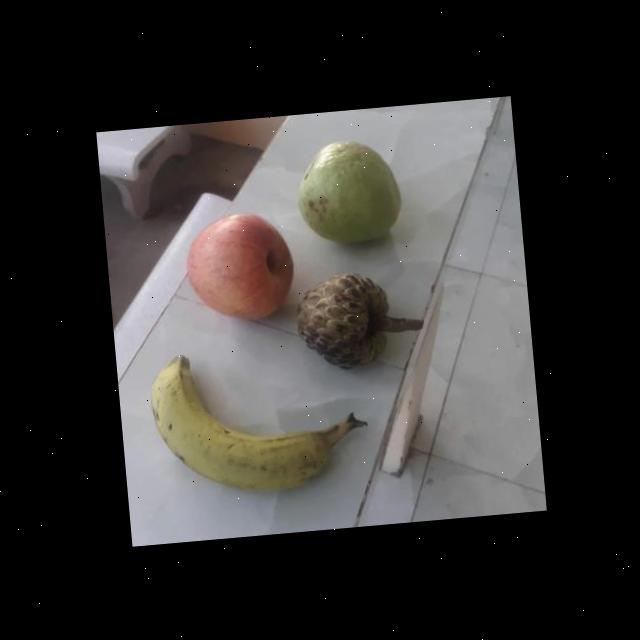Sakya fruit: (294, 266, 396, 371)
apple: (179, 205, 299, 320)
banana: (147, 342, 363, 501)
guava: (295, 138, 407, 245)
